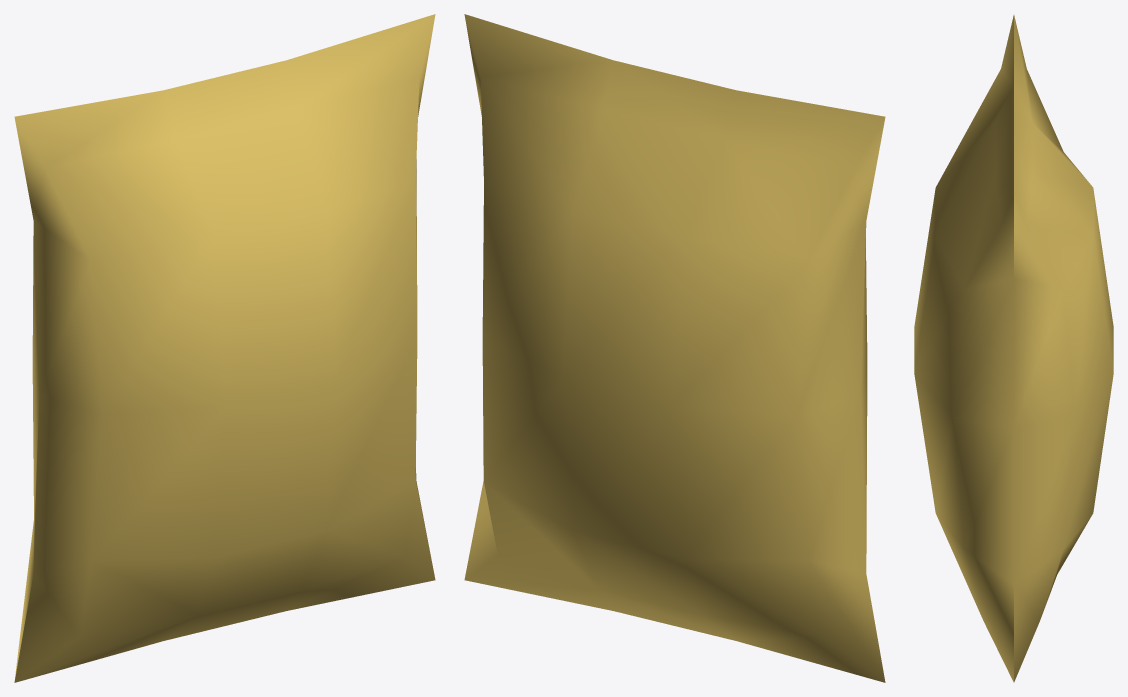
The model's file is chips.fbx.
3 views of the same model, side by side, from view 1: azimuth 30°, elevation 25°; view 2: azimuth 150°, elevation 25°; view 3: azimuth 270°, elevation 25° (orthographic). The views are drawn at different scales.
Visible parts, largest first — view 1: chips; view 2: chips; view 3: chips.
Part boxes in pixels (left/top/right/bottom): chips: left=14, top=14, right=435, bottom=682; chips: left=464, top=14, right=885, bottom=682; chips: left=914, top=15, right=1113, bottom=682.
Size of the model in its own units: 11.44 by 14.7 by 5.41.
